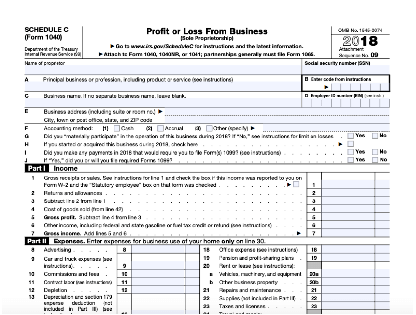checkbox: (156, 124, 164, 132), (205, 124, 213, 132), (371, 131, 379, 139), (371, 148, 379, 156), (371, 156, 379, 164), (292, 180, 300, 188), (113, 125, 121, 132), (347, 131, 354, 139), (347, 140, 354, 148), (347, 148, 354, 156), (347, 156, 354, 164)
textbox: (22, 57, 304, 77), (22, 74, 305, 93), (22, 90, 304, 109), (300, 57, 391, 77), (300, 73, 391, 93), (300, 89, 391, 108), (130, 292, 187, 315), (320, 171, 377, 190), (129, 252, 186, 271), (320, 260, 377, 279), (130, 244, 186, 255), (320, 187, 376, 198), (320, 195, 376, 206), (320, 203, 376, 214), (320, 211, 376, 222), (321, 228, 377, 239), (320, 244, 376, 255), (320, 252, 376, 263), (320, 276, 376, 287), (320, 292, 376, 303), (320, 301, 376, 312), (130, 268, 186, 279), (130, 276, 186, 287), (130, 284, 186, 295), (320, 220, 376, 230), (320, 285, 376, 295), (184, 293, 200, 315), (373, 171, 391, 190), (374, 259, 391, 279), (184, 252, 200, 271), (373, 300, 392, 312), (373, 203, 391, 214), (373, 219, 391, 230), (183, 268, 201, 279), (373, 243, 391, 254), (373, 284, 391, 295), (374, 252, 391, 263), (374, 276, 391, 287), (374, 292, 391, 303), (373, 187, 391, 197), (183, 277, 201, 287), (183, 285, 201, 295), (374, 196, 391, 206), (374, 212, 391, 222), (374, 228, 391, 238), (184, 244, 201, 254)
textline: (164, 108, 391, 117), (164, 116, 391, 125), (261, 125, 391, 134)
